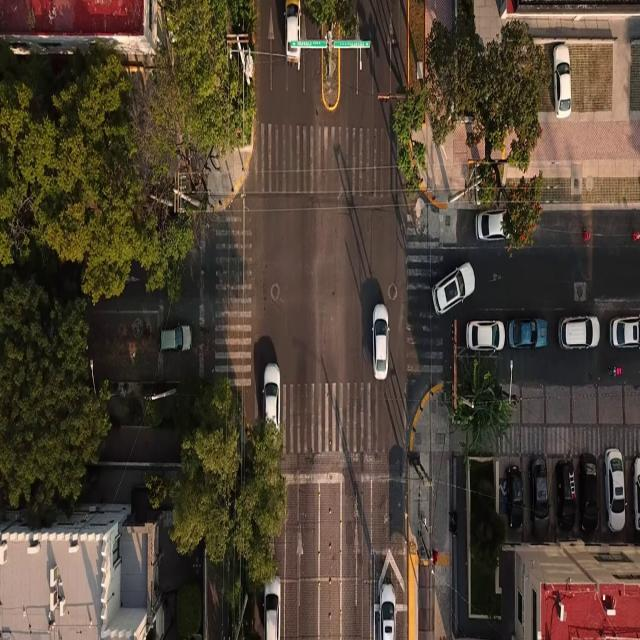car: (432, 263, 474, 314), (604, 448, 625, 532), (579, 454, 597, 533), (556, 459, 575, 531), (553, 44, 571, 118), (559, 317, 599, 349), (529, 456, 548, 523), (466, 320, 506, 351), (372, 304, 388, 379), (507, 318, 547, 348), (505, 465, 523, 528), (264, 363, 280, 426), (285, 0, 300, 67), (610, 316, 640, 348), (265, 576, 280, 639), (476, 209, 506, 240), (380, 584, 395, 639), (160, 326, 191, 351), (633, 457, 639, 531)
